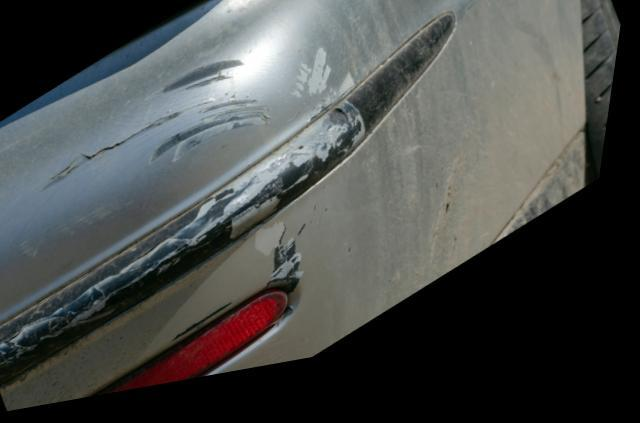scratch: (0, 47, 381, 392)
